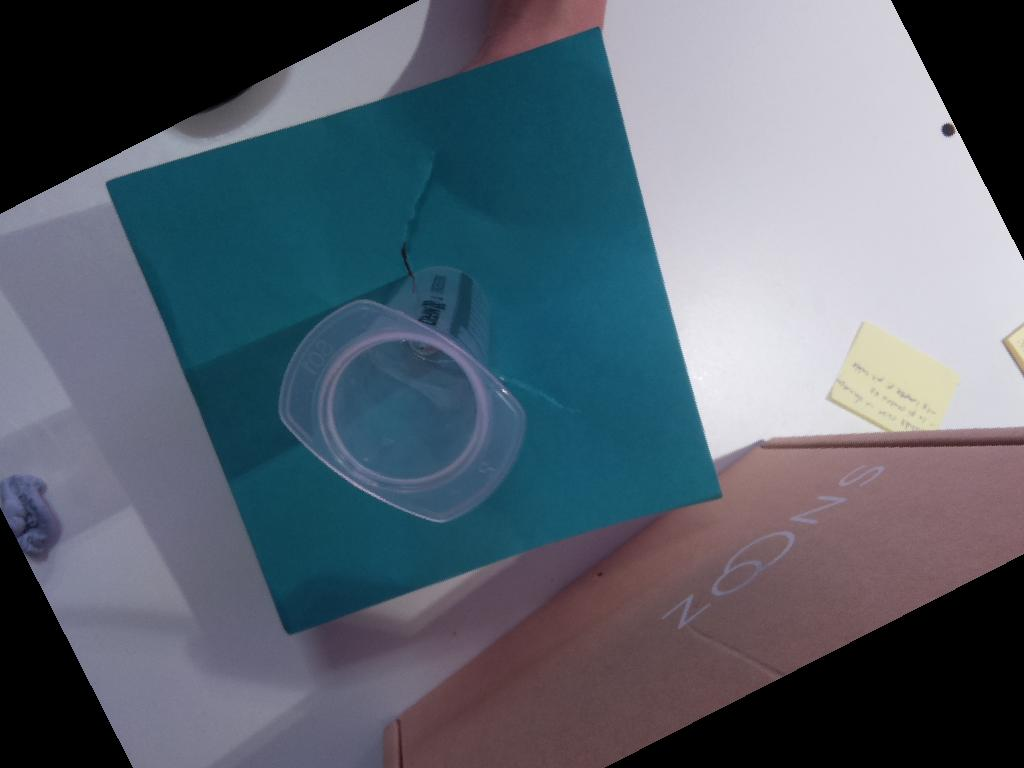clean: (276, 300, 528, 525)
